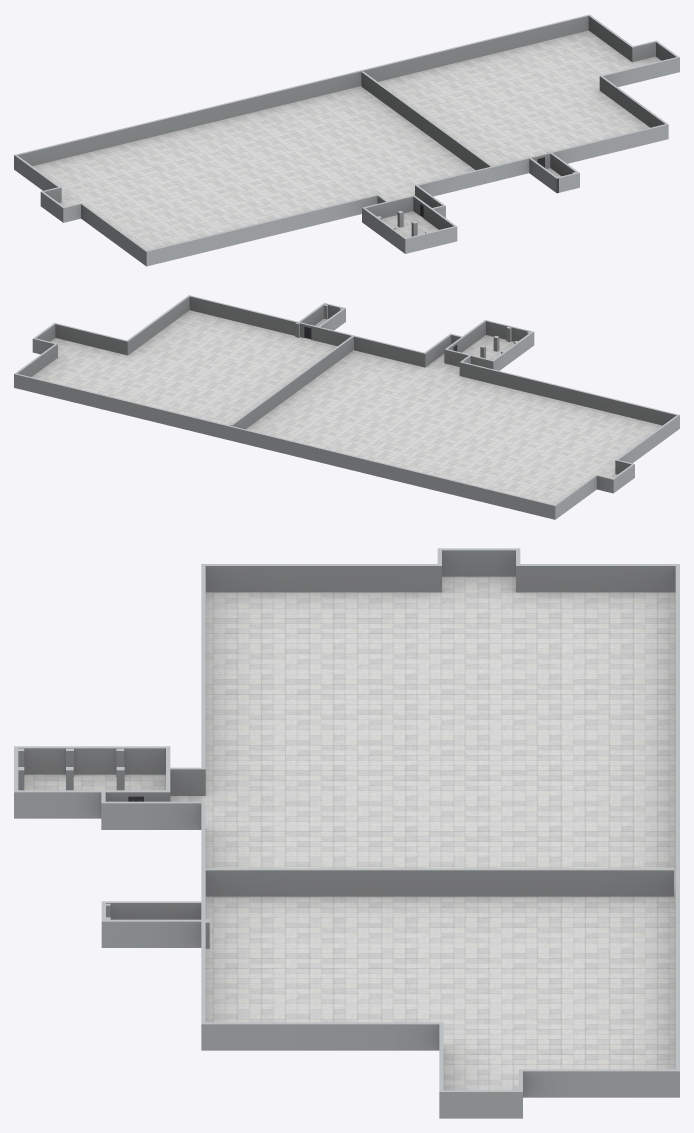
The model's file is LXWZ_2-4F.glb.
3 renders of one model, top to bottom at view 1: azimuth 30°, elevation 25°; view 2: azimuth 150°, elevation 25°; view 3: azimuth 270°, elevation 25°, orthographic. The views are drawn at different scales.
Size of the model in its own units: 98.02 by 2.23 by 50.75.
1 material, 1 textured.
